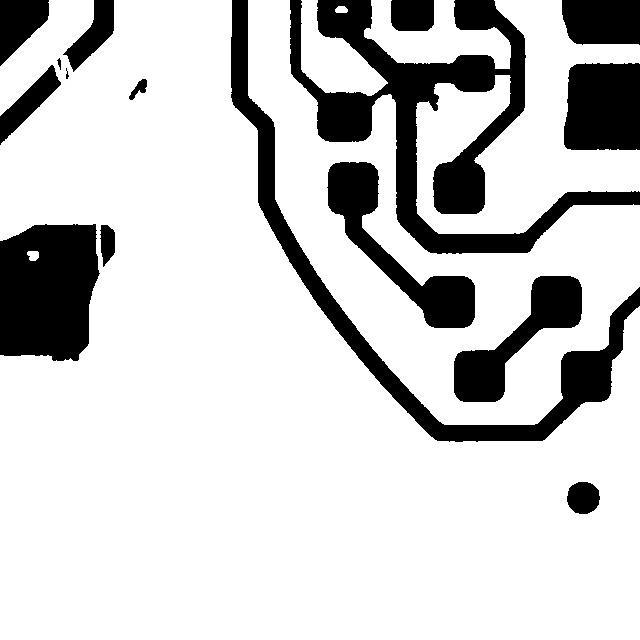copper: (119, 69, 156, 109)
mousebite: (354, 18, 384, 48)
open: (86, 206, 115, 284), (42, 45, 83, 95)
pin-hole: (17, 241, 48, 270), (325, 0, 357, 22)
short: (351, 74, 401, 116), (477, 59, 521, 84)
spur: (42, 340, 88, 370), (418, 84, 448, 120)
